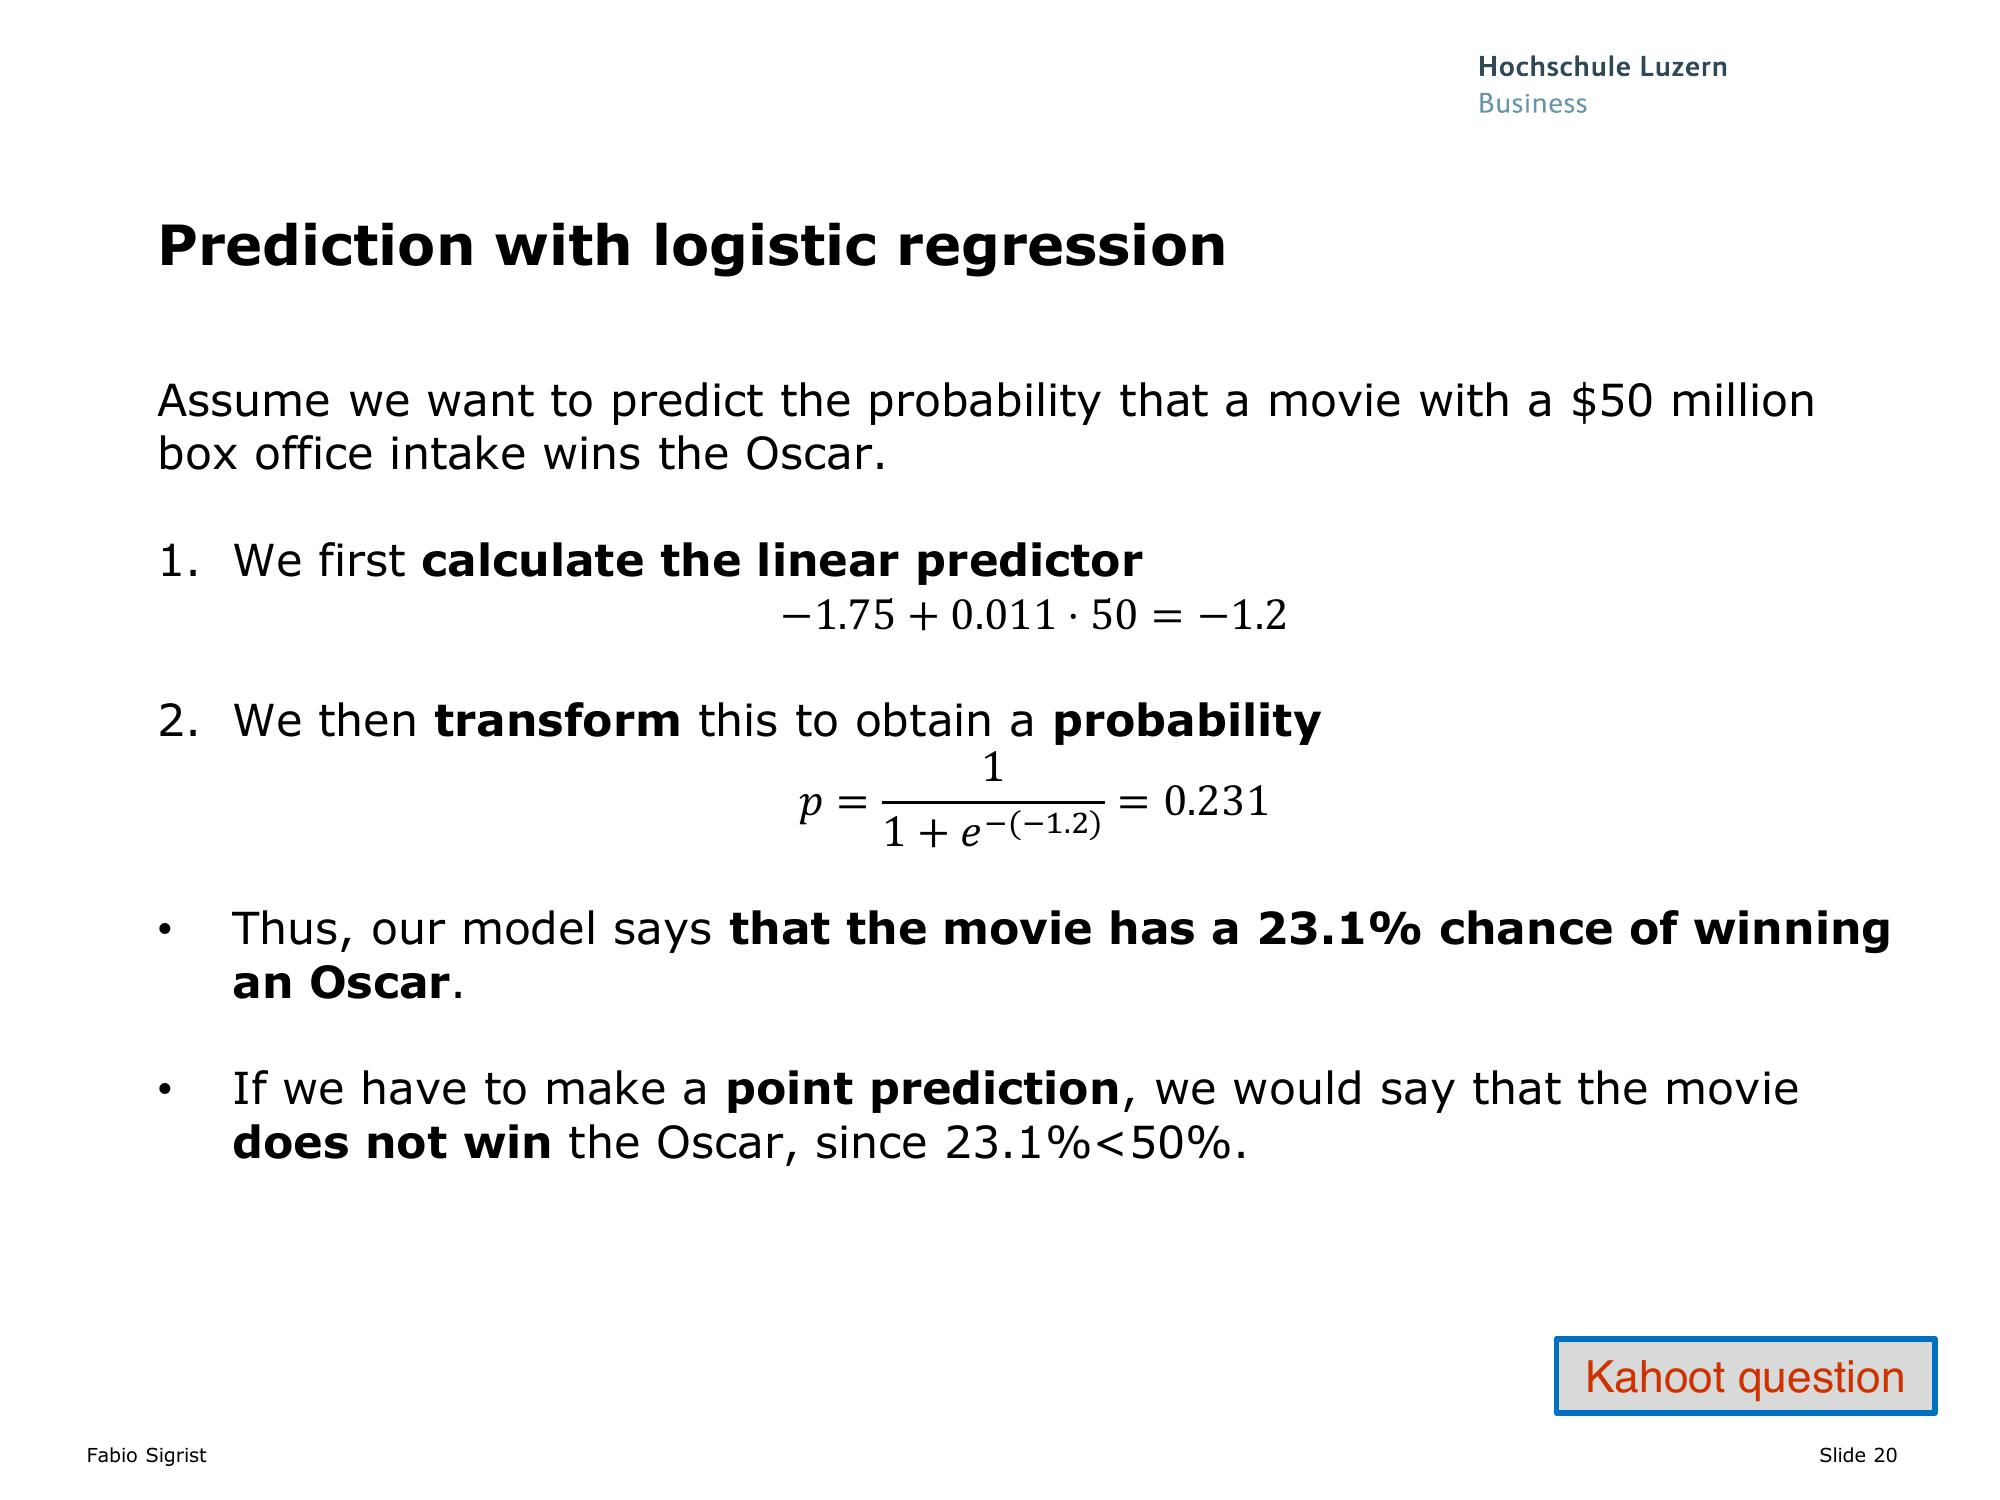Title: (143, 206, 1247, 287)
